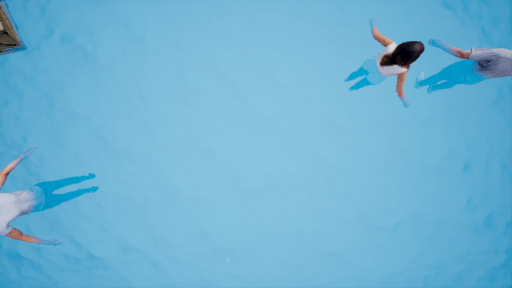person: (1, 152, 99, 245), (339, 18, 415, 107), (424, 34, 512, 97)
